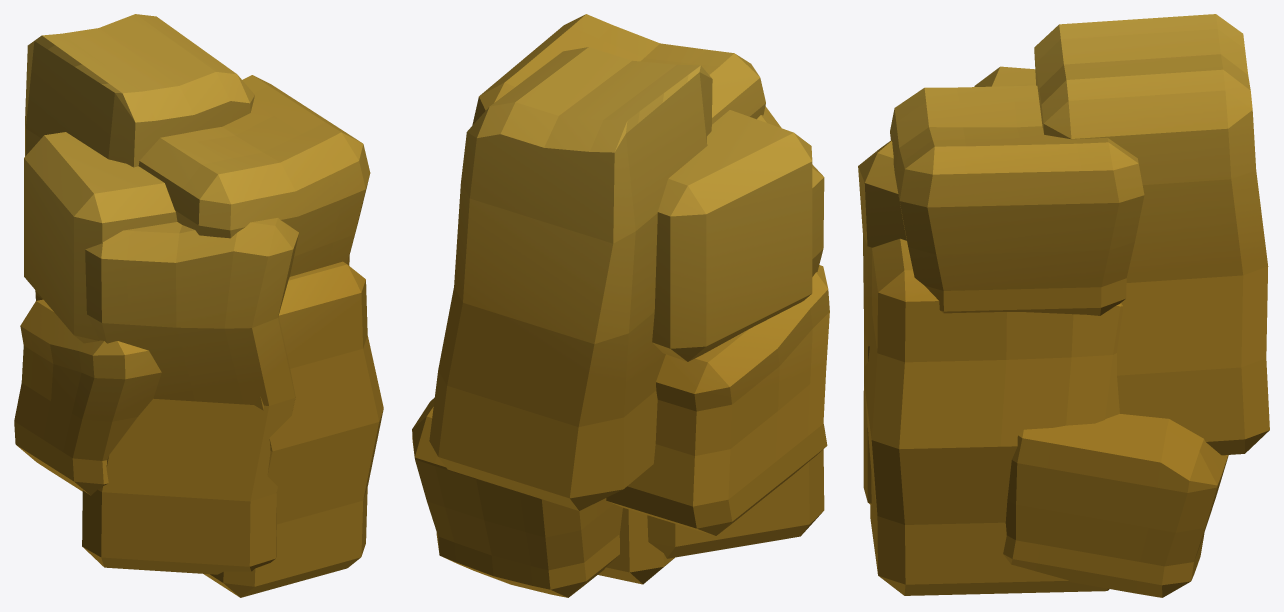
The model's file is Cliff02.fbx.
3 views of the same model, side by side, from view 1: azimuth 30°, elevation 25°; view 2: azimuth 150°, elevation 25°; view 3: azimuth 270°, elevation 25° (orthographic). The views are drawn at different scales.
Parts seen in each view (by area): view 1: Cliff02_Baked; view 2: Cliff02_Baked; view 3: Cliff02_Baked.
Part boxes in pixels (left/top/right/bottom): Cliff02_Baked: left=14, top=14, right=383, bottom=597; Cliff02_Baked: left=412, top=14, right=829, bottom=597; Cliff02_Baked: left=858, top=14, right=1269, bottom=597.
Size of the model in its own units: 1256 by 2001 by 1499.
